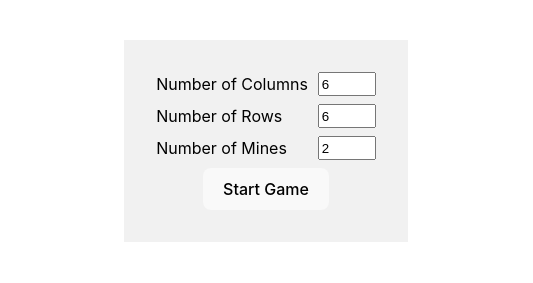
Test: GameSettings Component test suite › shows error when number of mines exceeds total tiles
This screenshot has width=533, height=283.
Replace the text in the number field with placeholder "Number of Columns" next to "Number of Columns" with "2" at [347, 84], box [318,72,376,96]
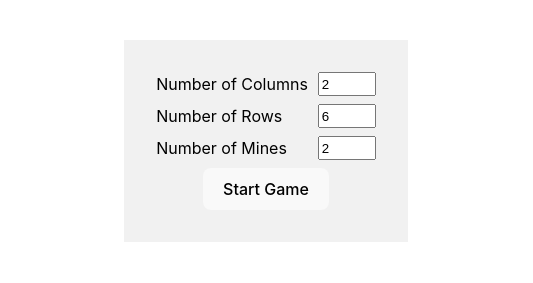
Replace the text in the number field with placeholder "Number of Rows" next to "Number of Rows" with "2" at [347, 116], box [318,104,376,128]
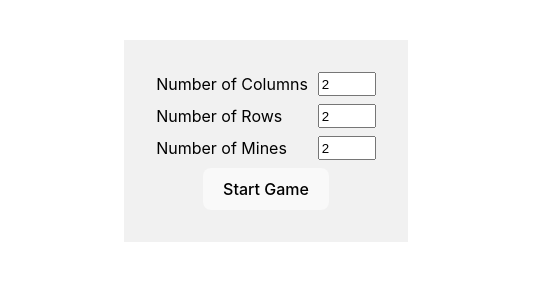
Replace the text in the number field with placeholder "Number of Mines" next to "Number of Mines" with "5" at [347, 148], box [318,136,376,160]
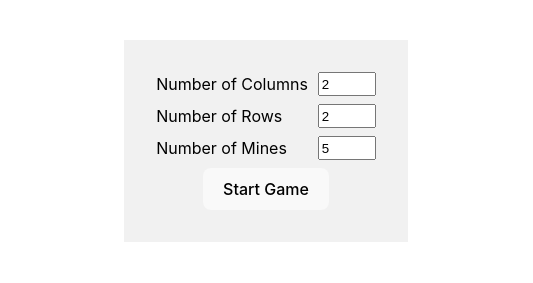
Click the button "Start Game".
click(266, 189)  # box [203,168,329,210]
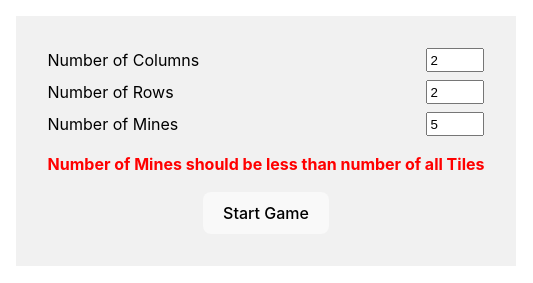
Check: the text "Number of Mines should be less than number of all Tiles" is shown, box [48,152,484,176]
